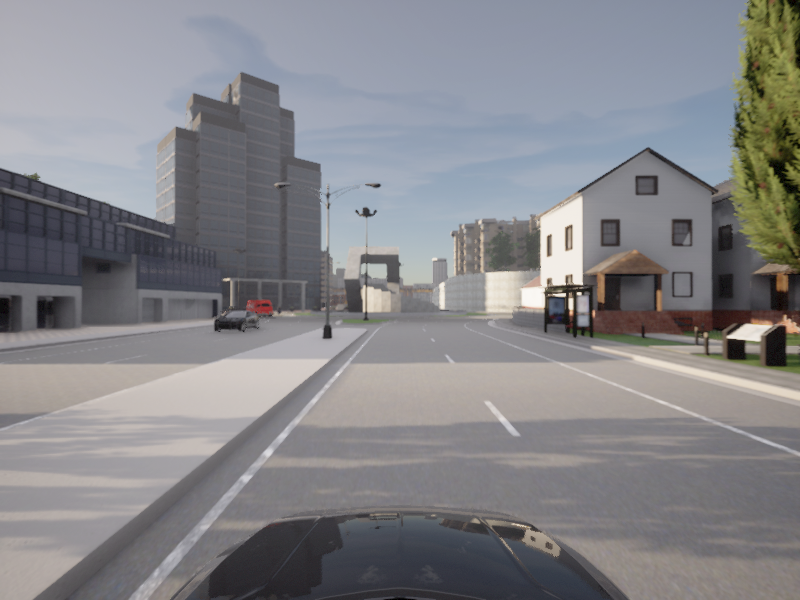vehicle: (0, 0, 799, 485), (208, 307, 262, 333)
